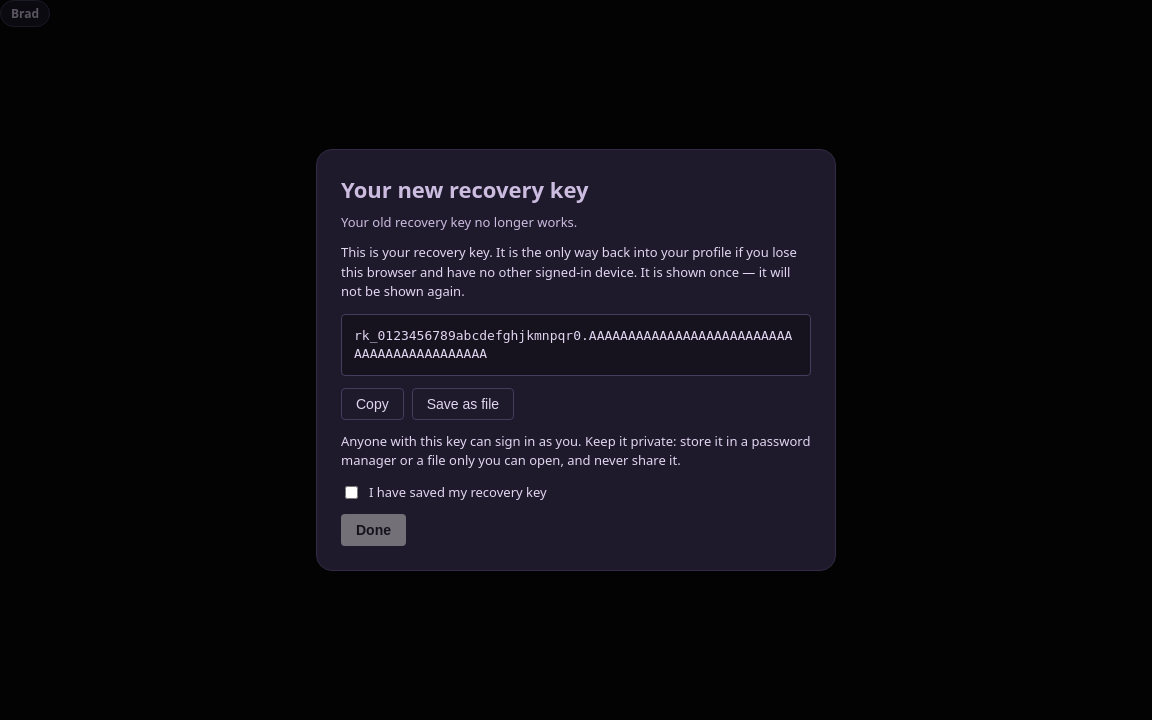
Test case: the profile menu (LIVE-2E) › 'Rotate recovery key' asks first, then shows the new key once
Earlier steps of the test are not shown.
Expected: the text "Your old recovery key no longer works." is shown, [341,213,577,231]
Expected: the button "Done" is shown, [341,514,406,546]
Click the checkbox labelled "I have saved my recovery key".
click(352, 492)  # box [345,486,358,499]
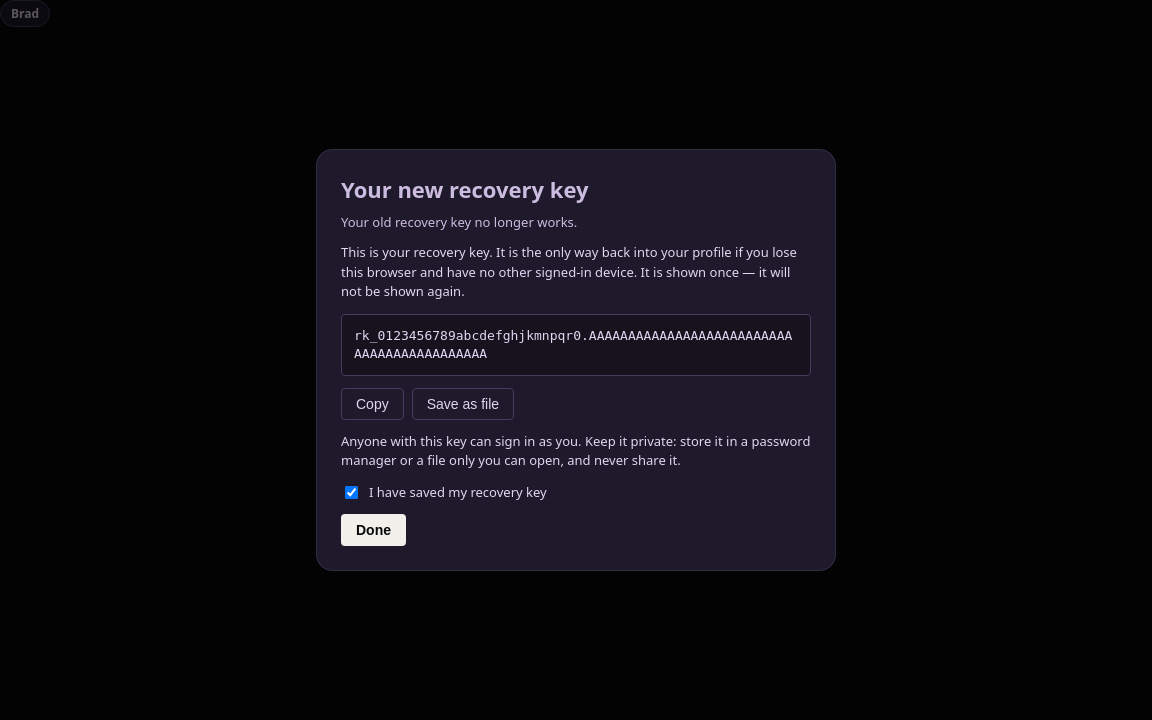
Click the button "Done".
click(374, 530)  # box [341,514,406,546]
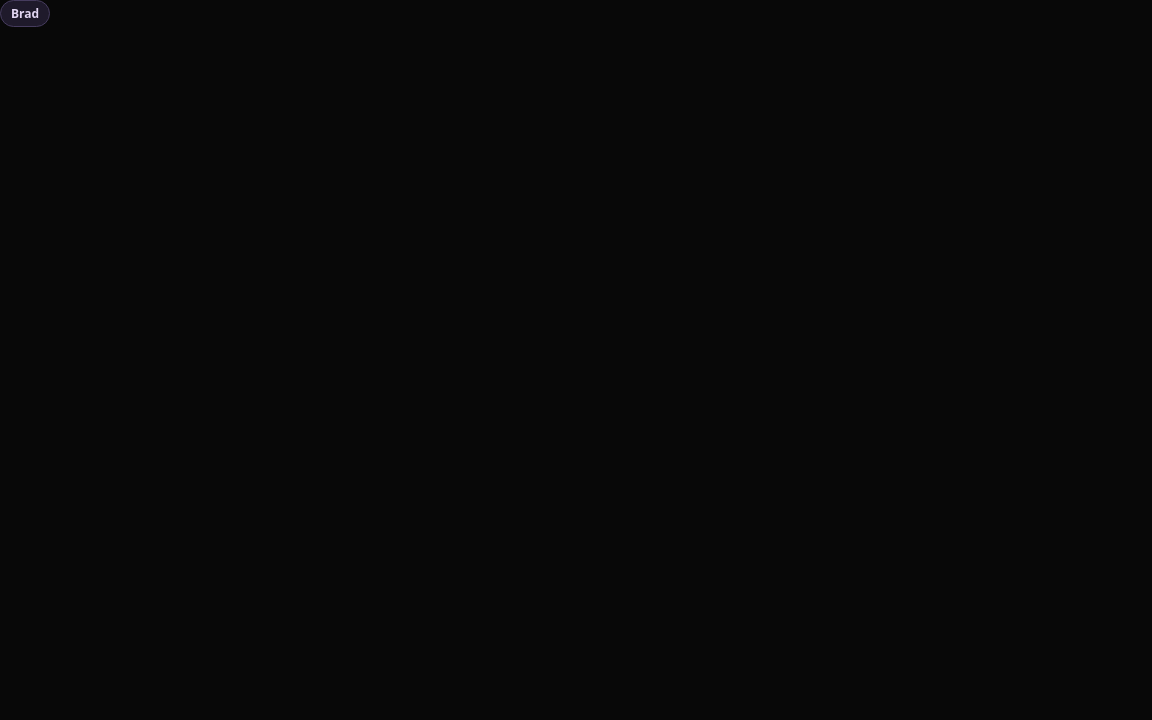
Now the text "rk_0123456789abcdefghjkmnpqr0.AAAAAAAAAAAAAAAAAAAAAAAAAAAAAAAAAAAAAAAAAAA" is gone
